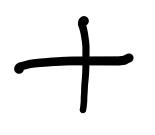plus: (14, 15, 133, 113)
